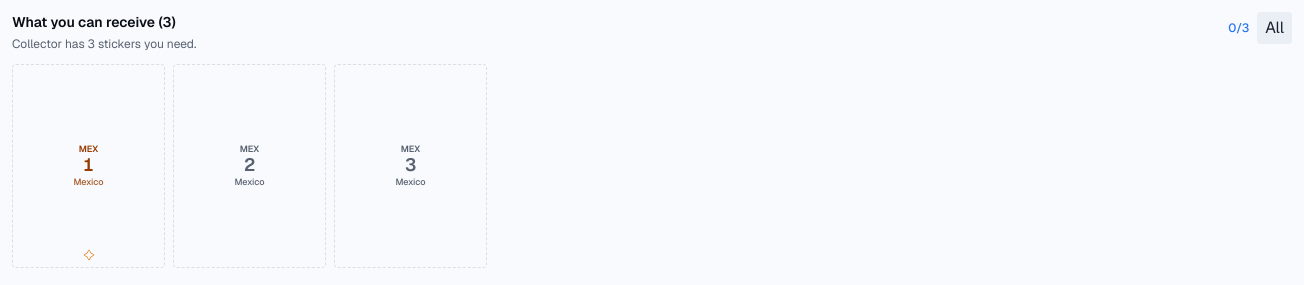
Test case: TradeSection › selects and clears every sticker in the section
Check: the text "0/3" is shown, box 1228,20 -> 1249,36
Step 1. Click the button "All" → [1275, 28], box 1257,12 -> 1292,44
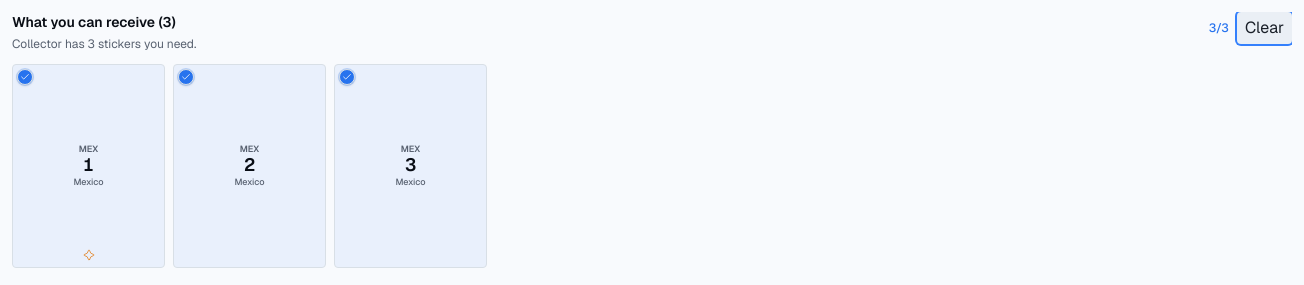
Check: the text "3/3" is shown, box 1209,20 -> 1229,36
Check: the button "Clear" is shown
Step 2. Click the button "Clear" → [1264, 28], box 1237,12 -> 1292,44
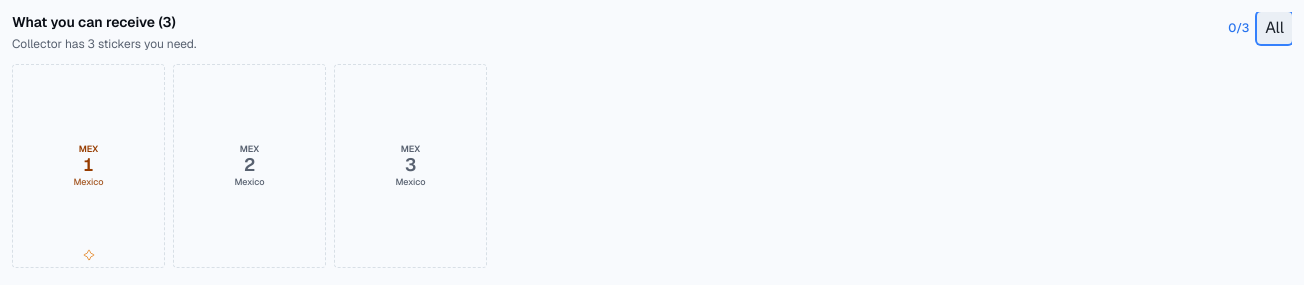
Check: the text "0/3" is shown, box 1228,20 -> 1249,36
